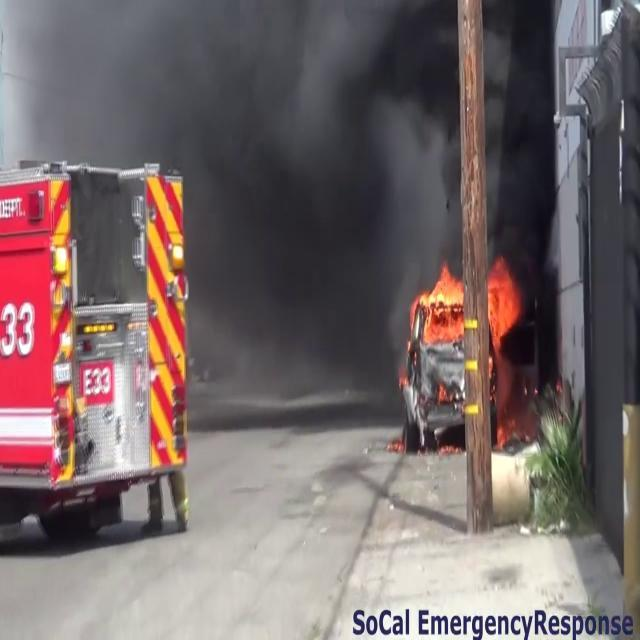Fire: (412, 263, 468, 339), (484, 257, 521, 360)
Smoke: (6, 0, 457, 341)
